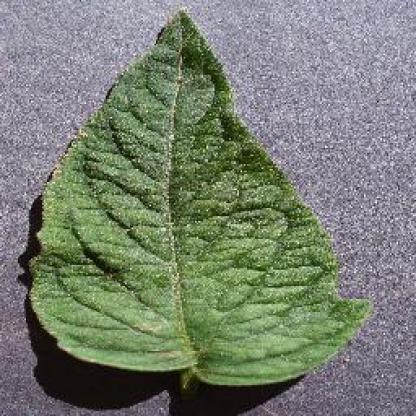bad leaf: (4, 18, 368, 398)
